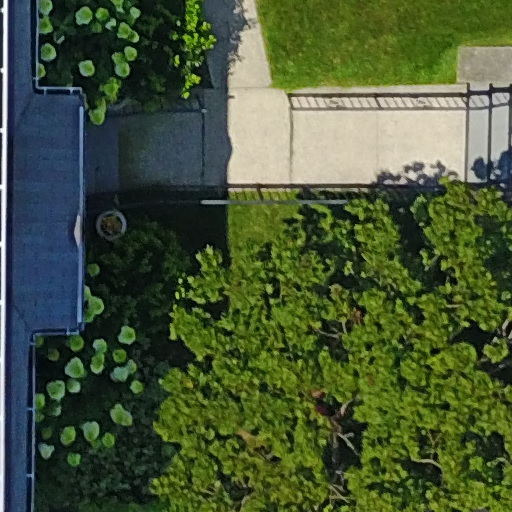flower pot: (94, 203, 133, 241)
